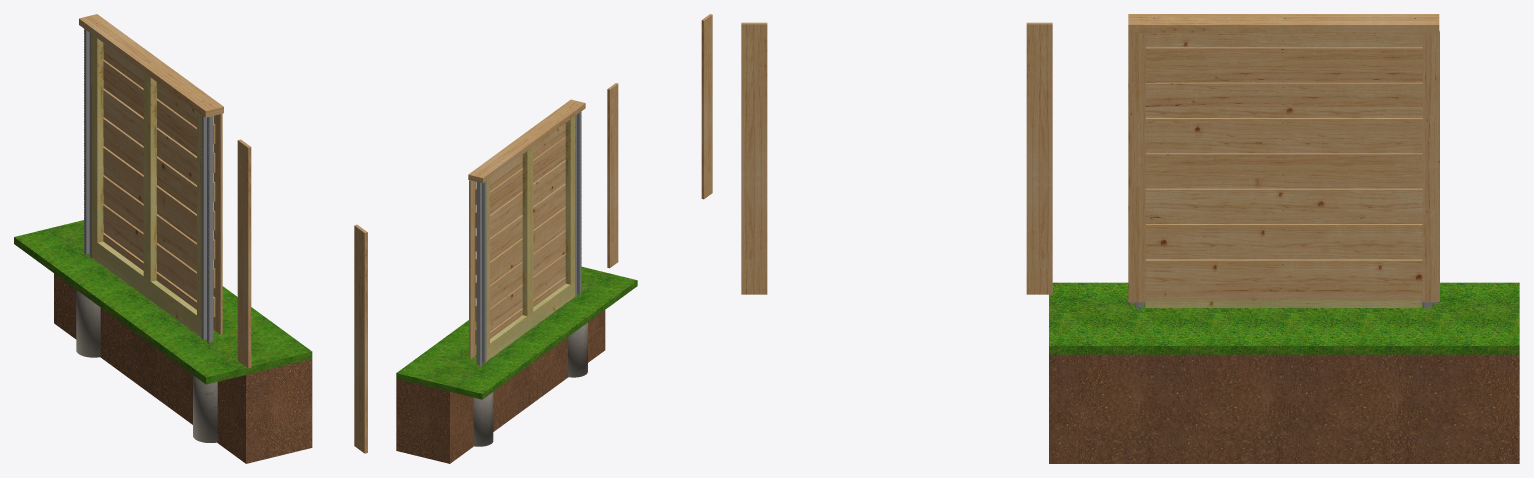
3 renders of one model, left to right at view 1: azimuth 30°, elevation 25°; view 2: azimuth 150°, elevation 25°; view 3: azimuth 270°, elevation 25°, orthographic. The views are drawn at different scales.
Visible parts, largest first — view 1: Model32, Right_Plank, Left_Plank; view 2: Model32, Right_Plank, Left_Plank; view 3: Model32, Right_Plank, Left_Plank.
Boxes of the visible parts, bbox=[...] form: Model32: bbox=[14, 14, 312, 463]; Right_Plank: bbox=[237, 139, 251, 368]; Left_Plank: bbox=[354, 224, 367, 453]; Model32: bbox=[396, 99, 637, 463]; Right_Plank: bbox=[607, 83, 618, 268]; Left_Plank: bbox=[701, 14, 712, 199]; Model32: bbox=[1049, 14, 1519, 463]; Right_Plank: bbox=[1026, 22, 1052, 294]; Left_Plank: bbox=[741, 22, 767, 294].
Size of the model in its own units: 0.8836 by 2.63 by 4.58.
6 materials, 5 textured.
